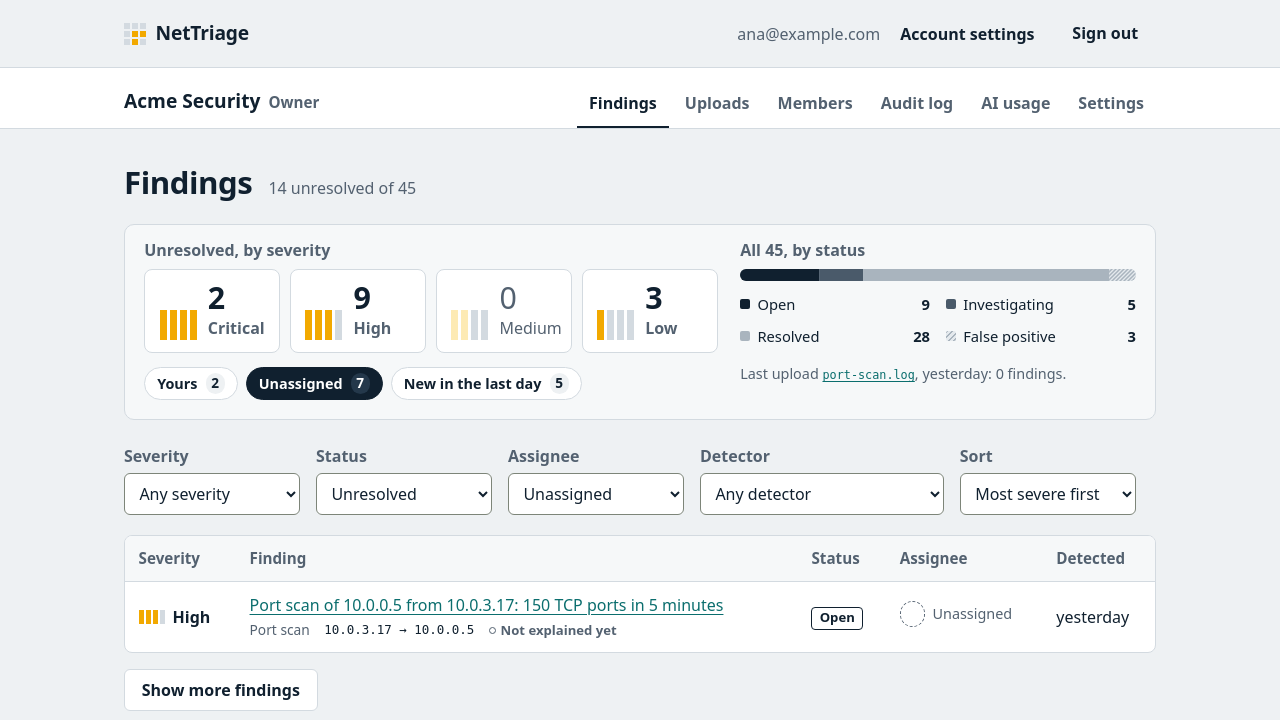
more findings load a page at a time, under the same filters
The image size is (1280, 720).
Click the button "Show more findings".
click(221, 690)  # box top-left (124, 669), bottom-right (318, 711)
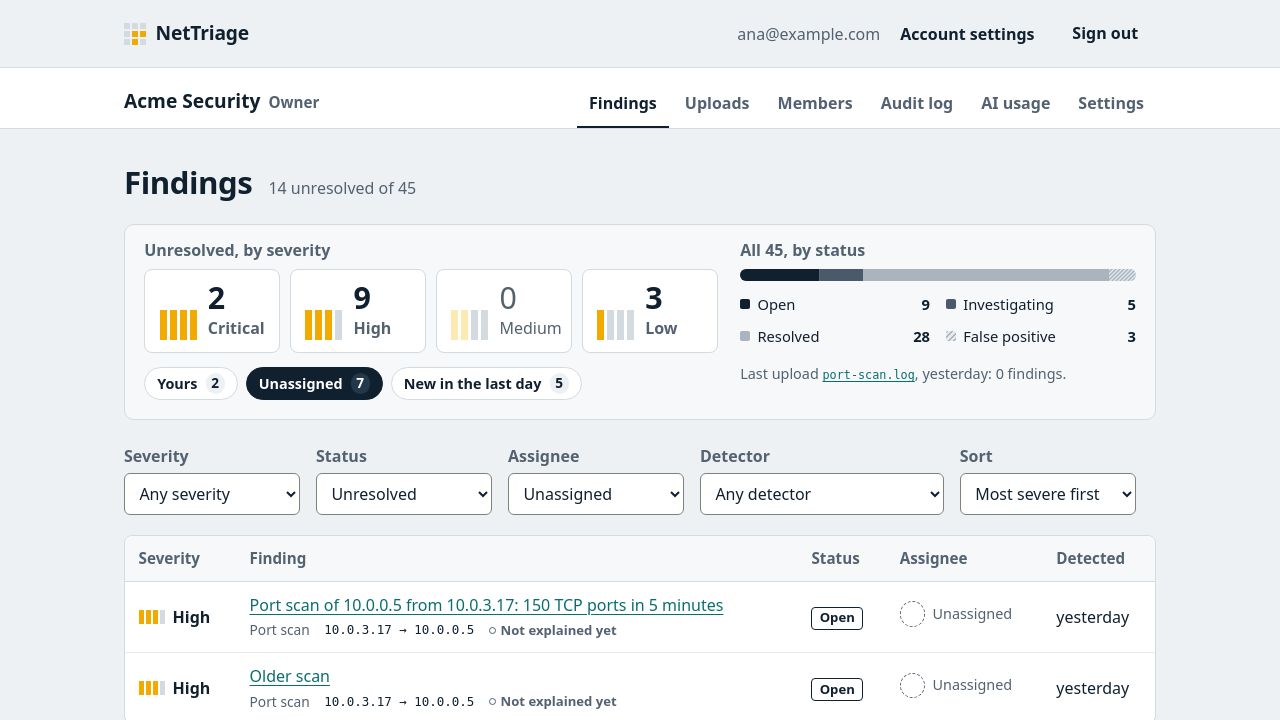
Expected: the link "Older scan" is shown, top-left (250, 665), bottom-right (330, 687)
Expected: the button "Show more findings" is gone
